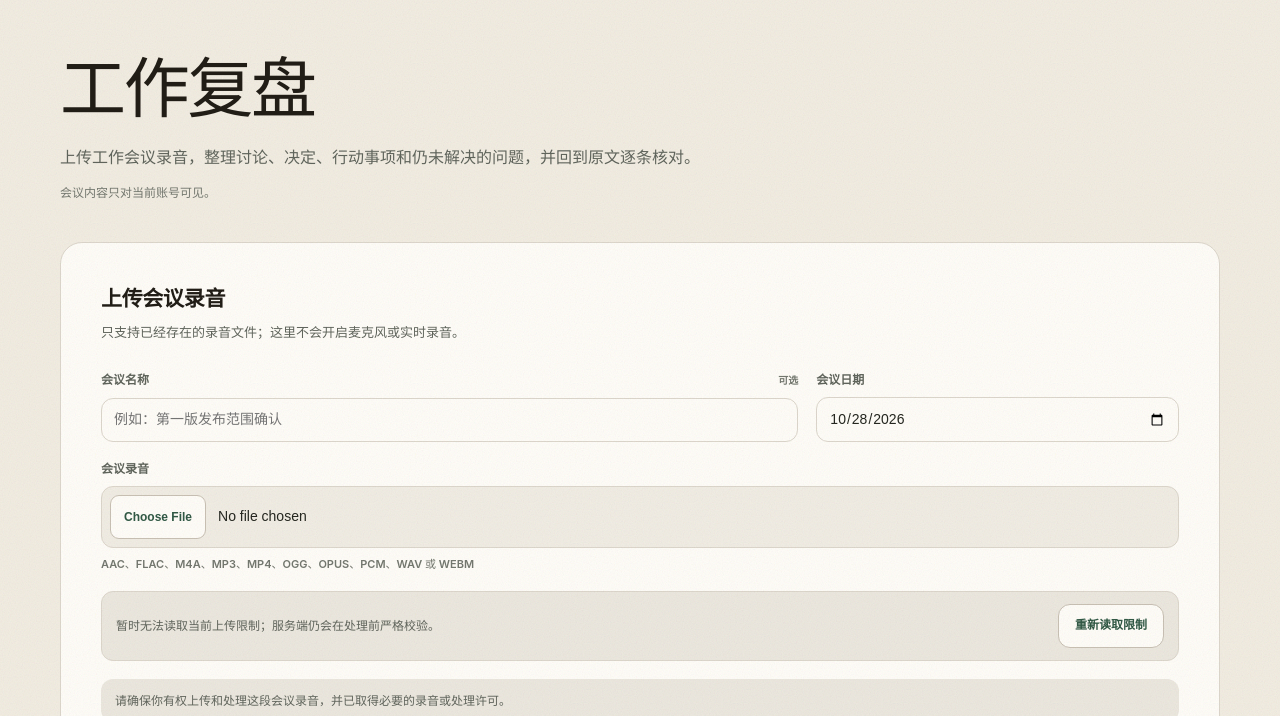
Test: WorkReviewHome › lets the user retry a failed capacity read without showing stale limits
The image size is (1280, 716).
Expected: the text "暂时无法读取当前上传限制；服务端仍会在处理前严格校验。" is shown, [116,616,440,636]
Expected: the text "当前上限" is not shown
Click the button "重新读取限制" at (1111, 626), box [1058,604,1164,648]
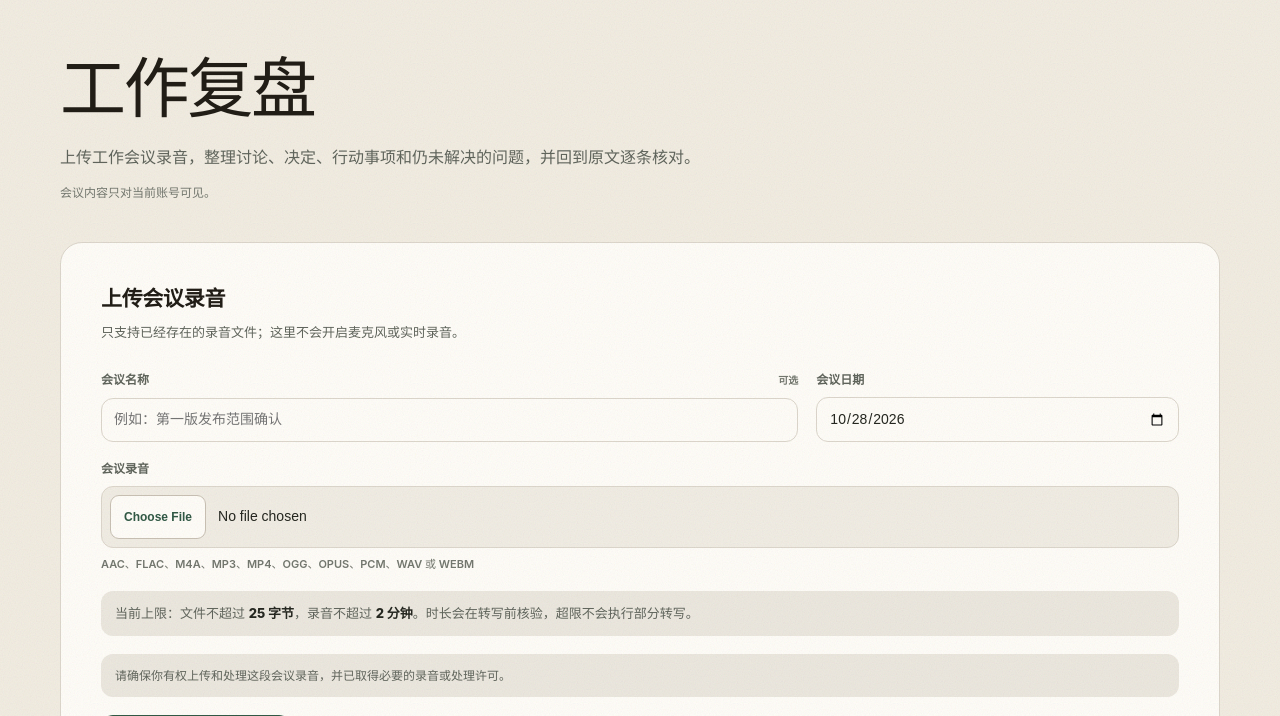
Expected: the text "当前上限：文件不超过 25 字节，录音不超过 2 分钟。时长会在转写前核验，超限不会执行部分转写。" is shown, [101,591,1179,636]
